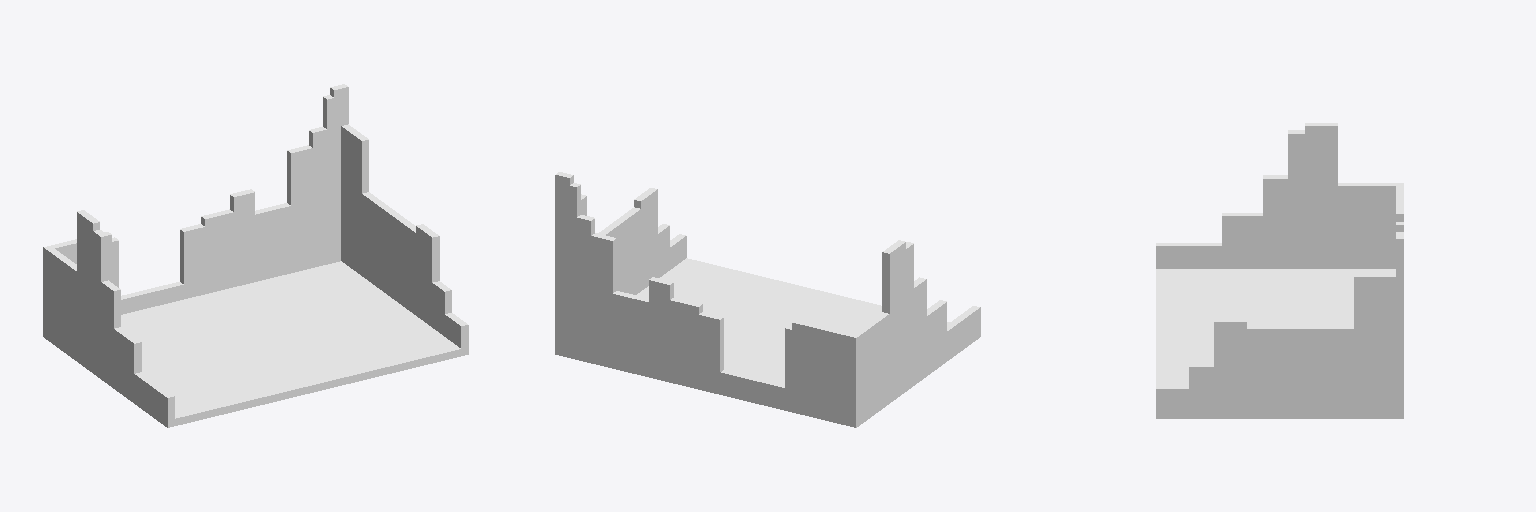
Rendered from store_broken1.obj.
3 views of the same model, side by side, from view 1: azimuth 30°, elevation 25°; view 2: azimuth 150°, elevation 25°; view 3: azimuth 270°, elevation 25° (orthographic).
Visible parts, largest first — view 1: store_broken1; view 2: store_broken1; view 3: store_broken1.
Part boxes in pixels (x1,y1,x2,y2): store_broken1: (43, 84, 468, 427); store_broken1: (555, 172, 980, 427); store_broken1: (1156, 123, 1403, 418).
Size of the model in its own units: 42 by 24 by 30.